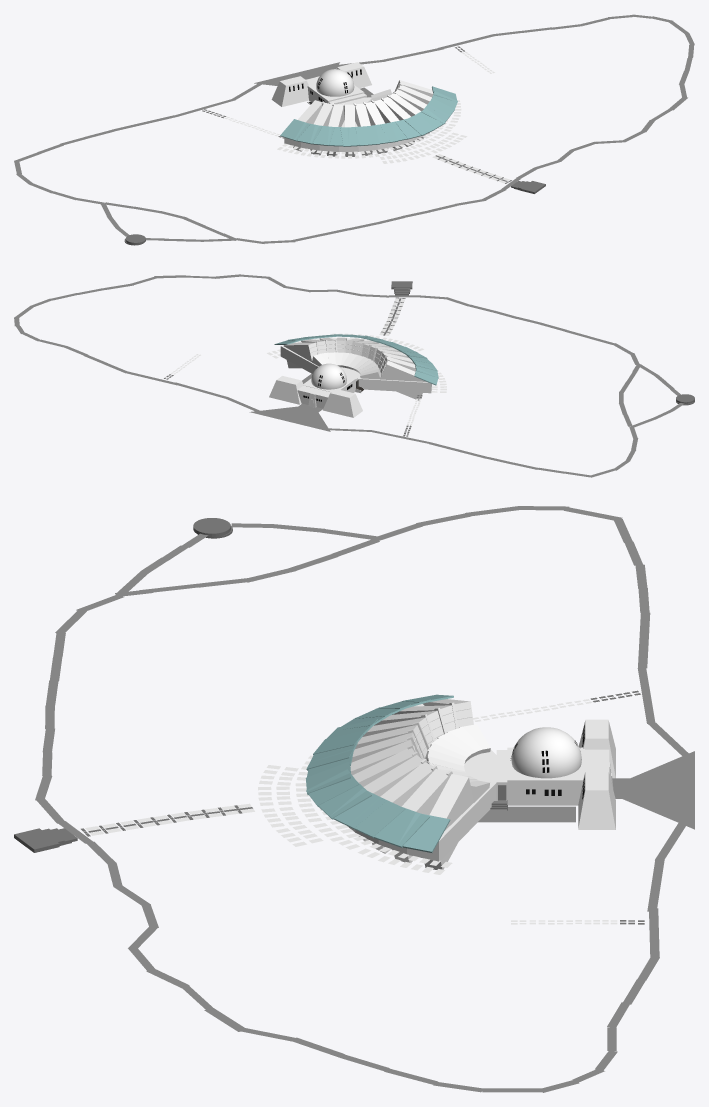
File: asmundarsafn_nyasta_utgafa_gera_model_af_safninu_vel._22_36obj.obj
The picture shows the model from 3 angles, top to bottom: view 1: azimuth 30°, elevation 25°; view 2: azimuth 150°, elevation 25°; view 3: azimuth 270°, elevation 25°; orthographic projection. The views are drawn at different scales.
Parts seen in each view (by area): view 1: Plane.001, Cube.047, Cube.033, syningarsalur, Sphere, h_hlid, v_hlid, innanhus; view 2: Plane.001, Cube.033, syningarsalur, Cube.047, h_hlid, Sphere, v_hlid, adaldyr; view 3: Plane.001, Cube.033, Cube.047, Sphere, syningarsalur, innanhus, v_hlid, h_hlid.
Boxes of the visible parts, <box> form: Plane.001: <box>14,14,694,245</box>; Cube.047: <box>280,86,457,146</box>; Cube.033: <box>293,80,433,156</box>; syningarsalur: <box>284,97,429,151</box>; Sphere: <box>316,69,354,96</box>; h_hlid: <box>271,76,308,106</box>; v_hlid: <box>336,62,371,88</box>; innanhus: <box>307,83,364,103</box>; Plane.001: <box>14,274,694,477</box>; Cube.033: <box>283,337,426,400</box>; syningarsalur: <box>280,338,431,393</box>; Cube.047: <box>274,334,438,385</box>; h_hlid: <box>323,389,362,417</box>; Sphere: <box>311,363,346,389</box>; v_hlid: <box>269,376,303,404</box>; adaldyr: <box>297,385,330,408</box>; Plane.001: <box>14,506,694,1092</box>; Cube.033: <box>350,699,490,869</box>; Cube.047: <box>305,694,453,852</box>; Sphere: <box>511,727,581,778</box>; syningarsalur: <box>347,704,496,861</box>; innanhus: <box>507,747,584,805</box>; v_hlid: <box>578,771,615,829</box>; h_hlid: <box>578,719,615,778</box>.
Size of the model in its own units: 148 by 8.94 by 72.34.
